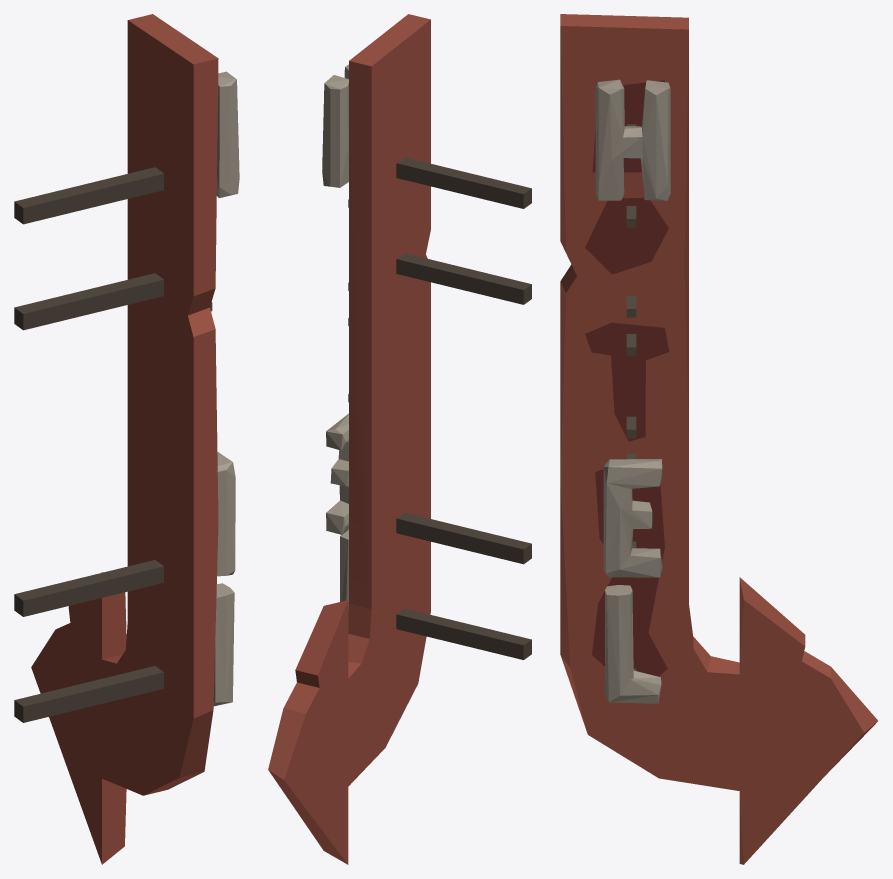
File: apoc_SM_Prop_Sign_Hotel_01.gltf
The picture shows the model from 3 angles, left to right: view 1: azimuth 30°, elevation 25°; view 2: azimuth 150°, elevation 25°; view 3: azimuth 270°, elevation 25°; orthographic projection. The views are drawn at different scales.
Parts seen in each view (by area): view 1: SM_Prop_Sign_Hotel_01; view 2: SM_Prop_Sign_Hotel_01; view 3: SM_Prop_Sign_Hotel_01.
Boxes of the visible parts, x1,y1,x2,y2 form: SM_Prop_Sign_Hotel_01: (14, 14, 239, 864); SM_Prop_Sign_Hotel_01: (268, 14, 531, 864); SM_Prop_Sign_Hotel_01: (560, 14, 877, 864).
Size of the model in its own units: 0.9346 by 3.74 by 1.27.
Materials: 1 (1 with a texture image).
